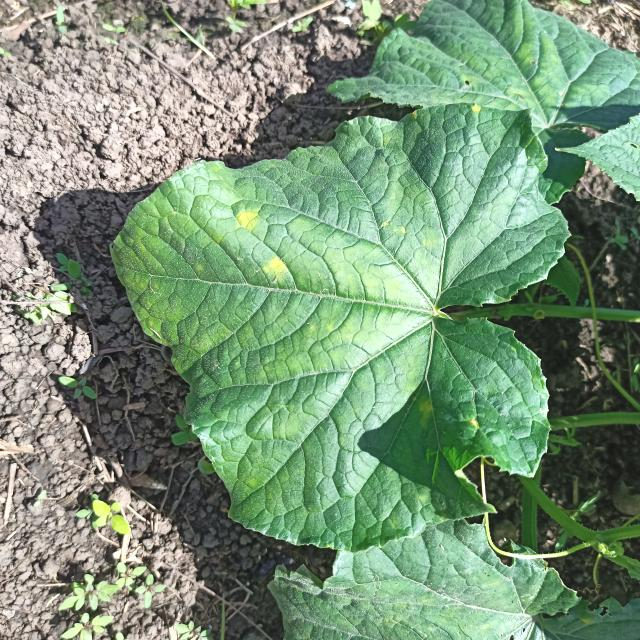disease_cucumber: (264, 254, 288, 278), (236, 209, 258, 232), (472, 104, 481, 113)
